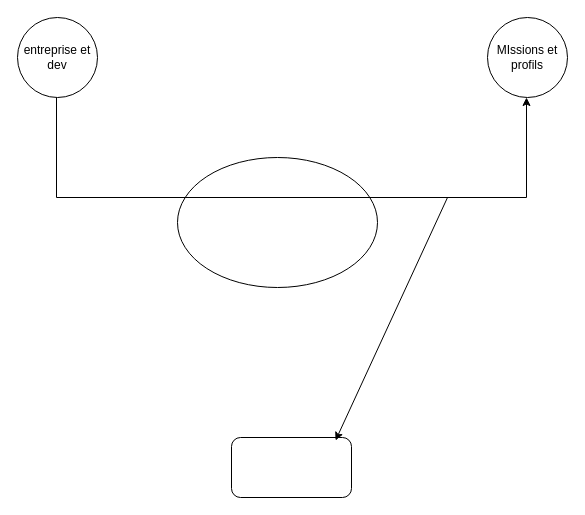
Image size: 585x515. Some labels were removed from this diagram. The box of each missing label's shape, as (x1, y1, x2, y2) in pixels:
(FreelanceIT) Application WEB: (176, 156, 378, 288)
mise en relation entreprise et dev: (230, 436, 352, 498)
